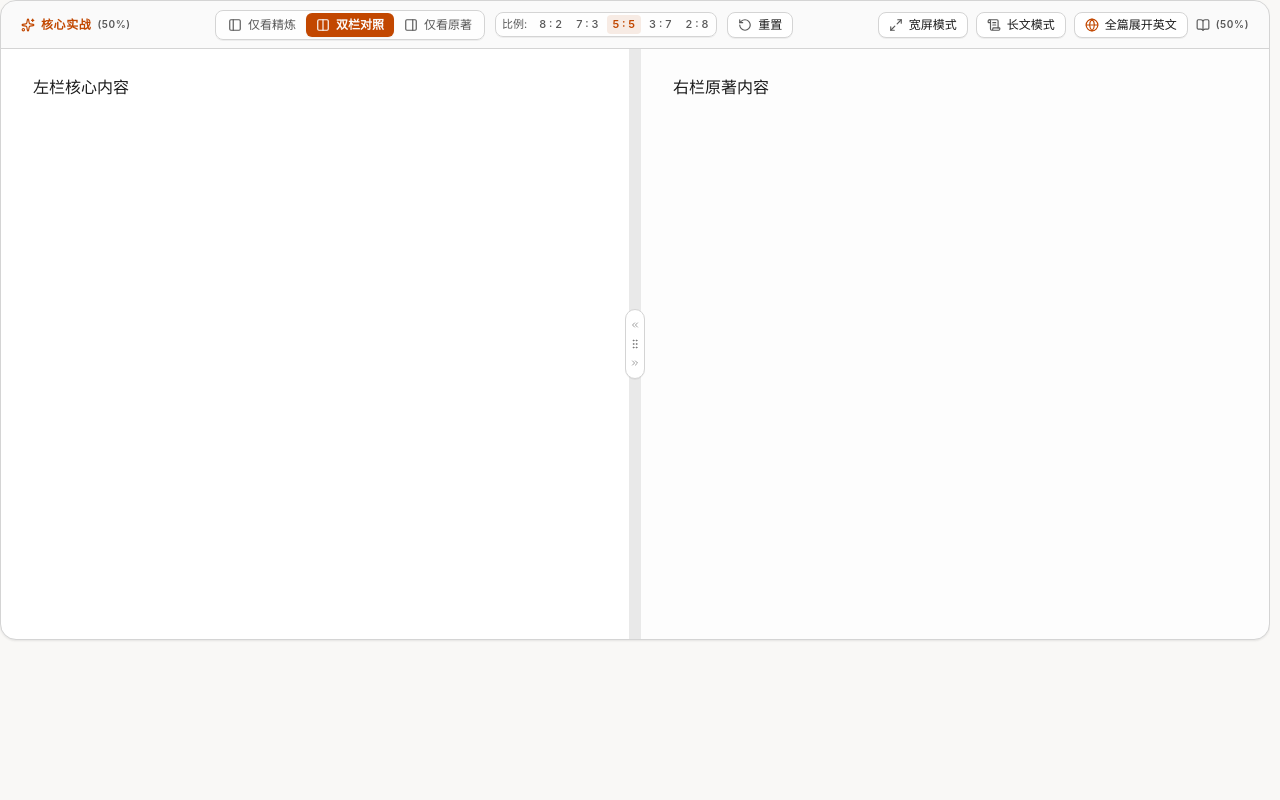
Test: SplitReader 双栏独立滚动组件 › 支持通过顶栏视图模式切换「仅看精炼」、「双栏对照」、「仅看原著」
This screenshot has width=1280, height=800.
Expected: the element named "核心实战" is shown, [33,77,129,97]
Expected: the element named "原著对照" is shown, [641,49,1269,639]
Note: 点击「仅看精炼」切换到仅左栏单栏模式
Click the button "仅看精炼": click(262, 24) [218,12,306,36]
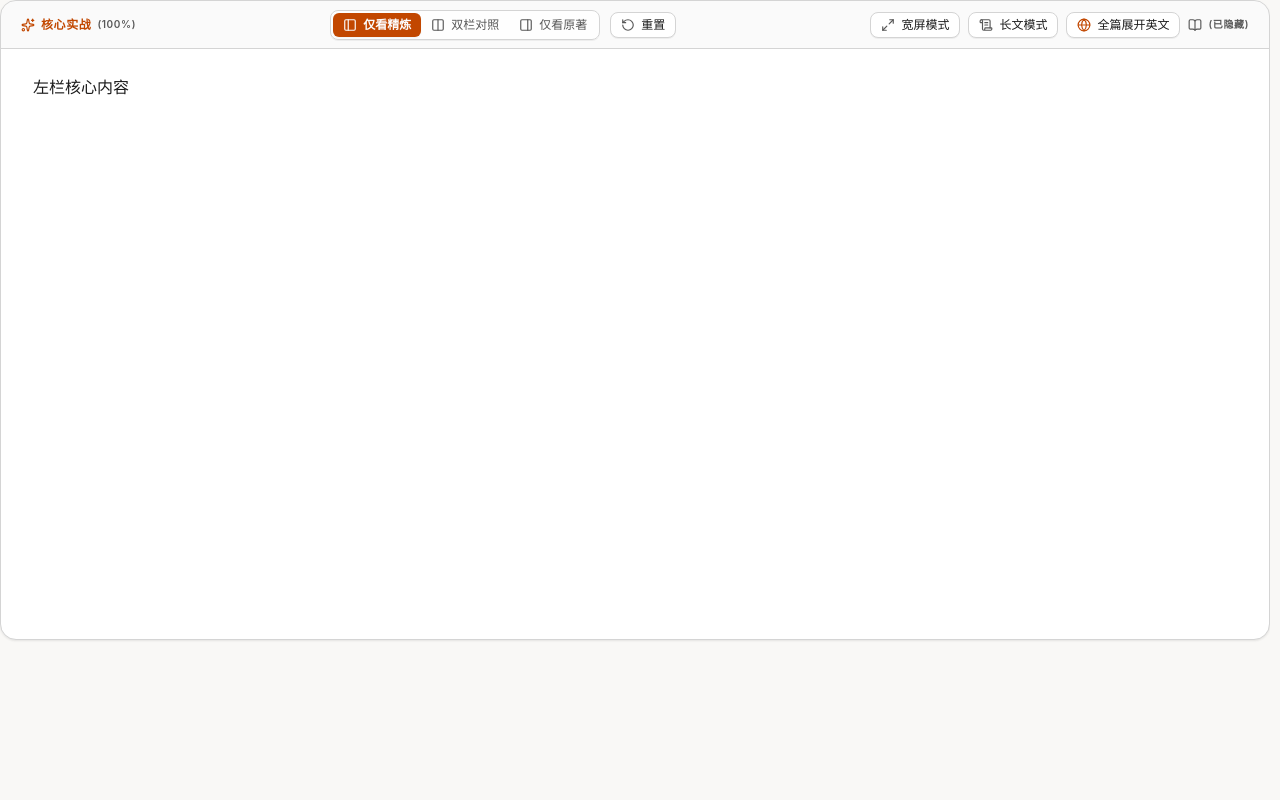
Now the element "拖拽调整左右栏宽度" is gone
Now the element "原著对照" is gone
Note: 点击「仅看原著」切换到仅右栏单栏模式
Click the button "仅看原著": click(553, 24) [509,12,597,36]
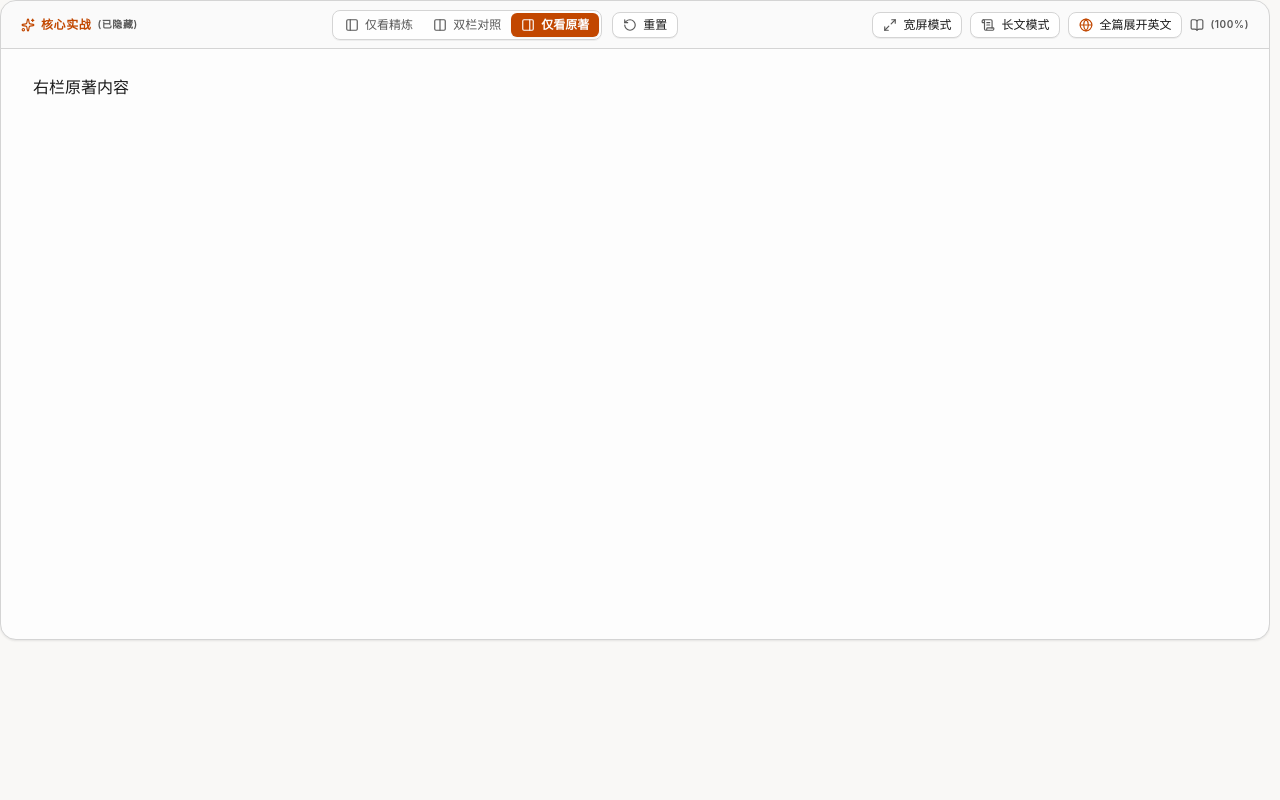
Note: 点击「双栏对照」切回双栏并排
Click the button "双栏对照": click(467, 24) [423,12,511,36]
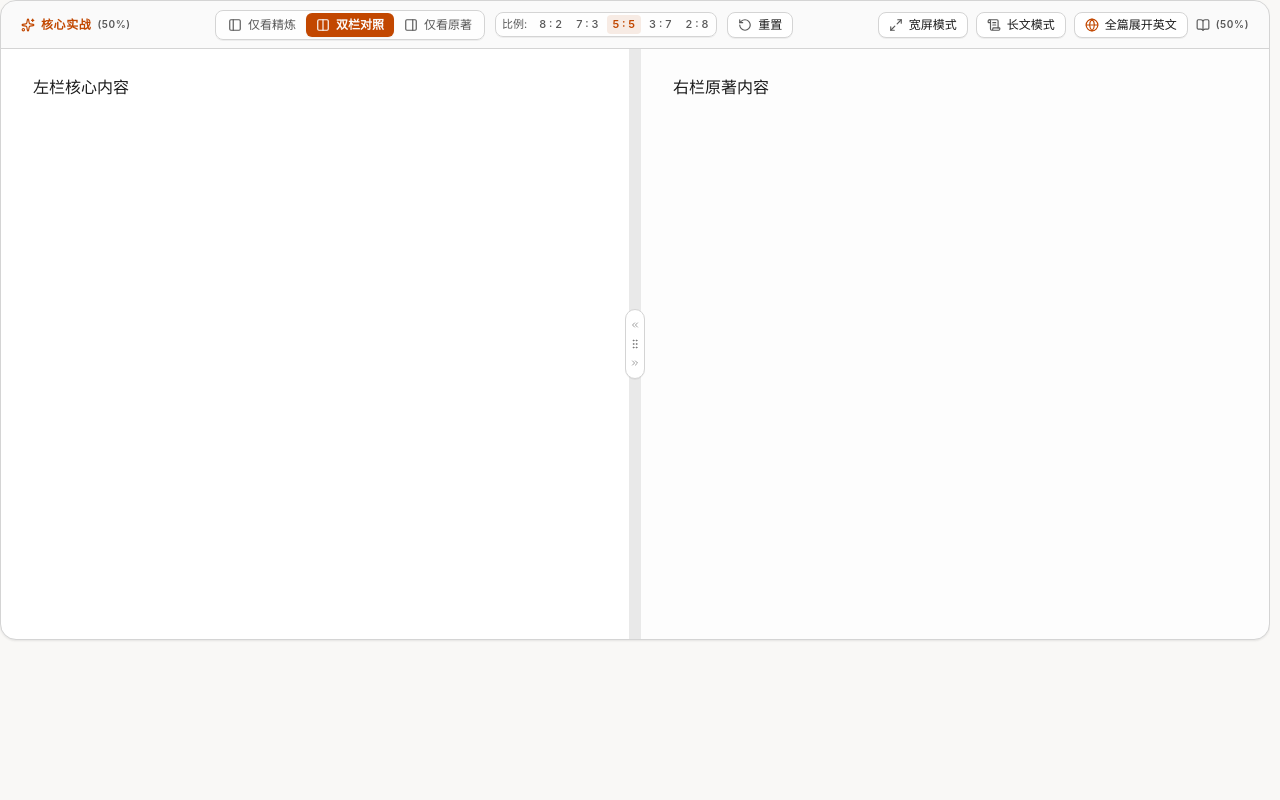
Now the element named "原著对照" is shown, box [641,49,1269,639]
Now the element named "核心实战" is shown, box [33,77,129,97]
Now the element named "拖拽调整左右栏宽度" is shown, box [629,49,641,639]
